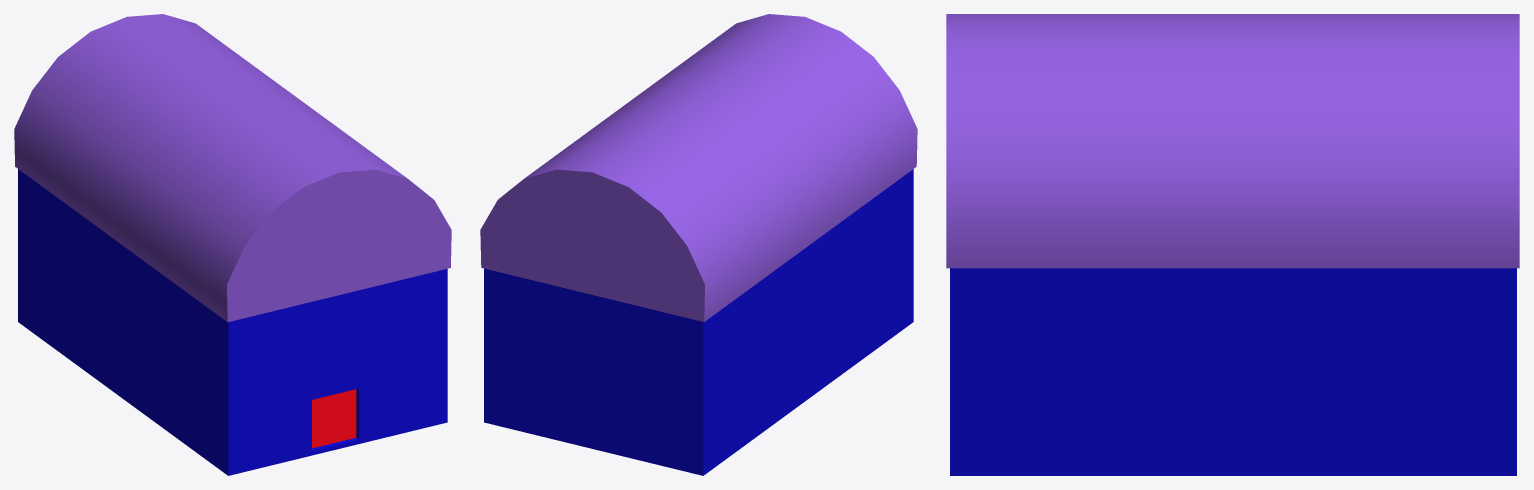
The model's file is Gym_Updated.fbx.
3 views of the same model, side by side, from view 1: azimuth 30°, elevation 25°; view 2: azimuth 150°, elevation 25°; view 3: azimuth 270°, elevation 25° (orthographic). The views are drawn at different scales.
Visible parts, largest first — view 1: pCylinder24, pCube6; view 2: pCylinder24, pCube6; view 3: pCylinder24, pCube6.
Part boxes in pixels (x1,y1,x2,y2): pCylinder24: (14,14,451,322); pCube6: (18,169,447,475); pCylinder24: (480,14,917,321); pCube6: (484,169,913,475); pCylinder24: (946,14,1519,268); pCube6: (950,268,1516,475).
Size of the model in its own units: 48.38 by 57.08 by 79.24.
